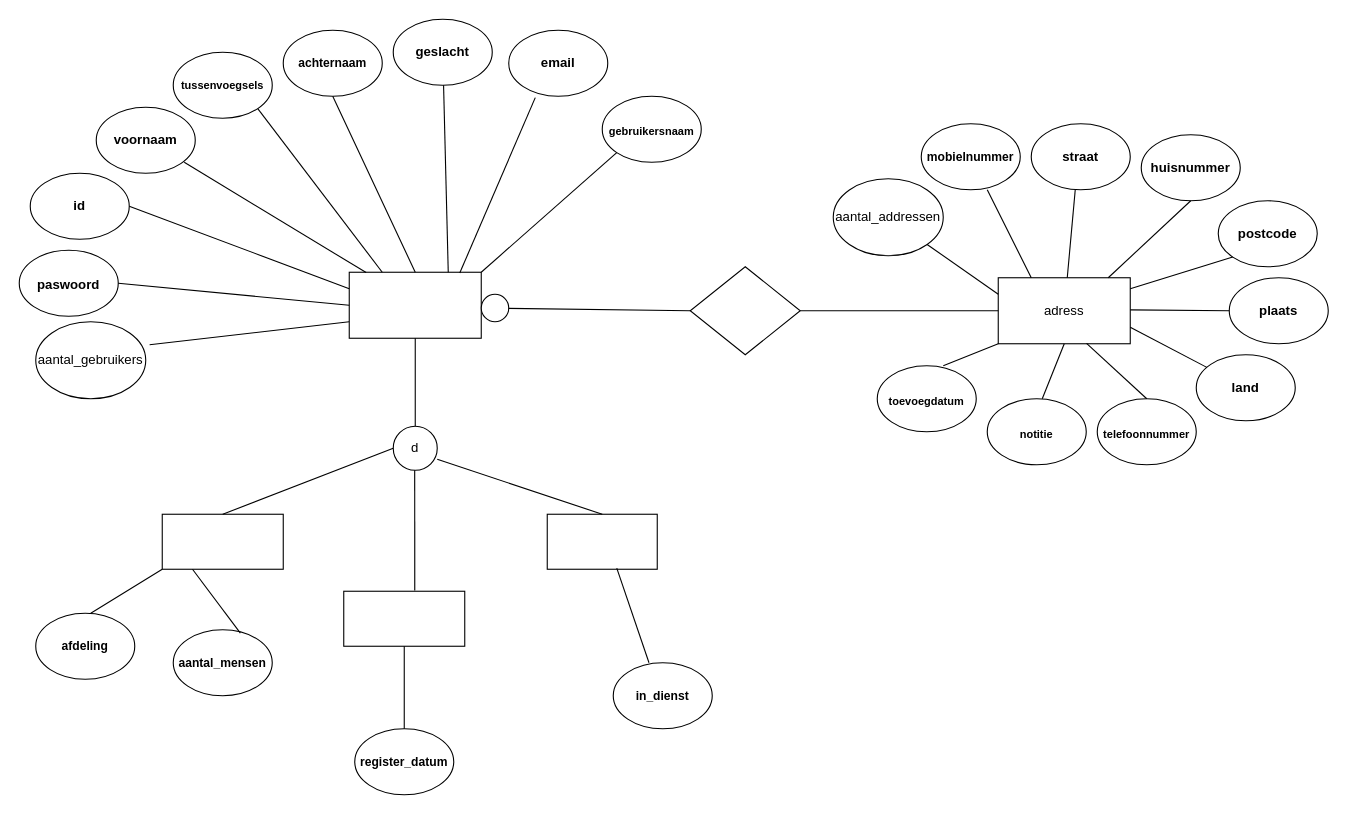
This 1348x814 diagram has some shape labels left out. The shapes that lost their labels are listed below. From the top down, each one's centre as x and y in pixels, then its label:
At [414,304]: "user".
At [744,310]: "heeft".
At [222,541]: "manager".
At [601,541]: "administrator".
At [404,618]: "regular".
